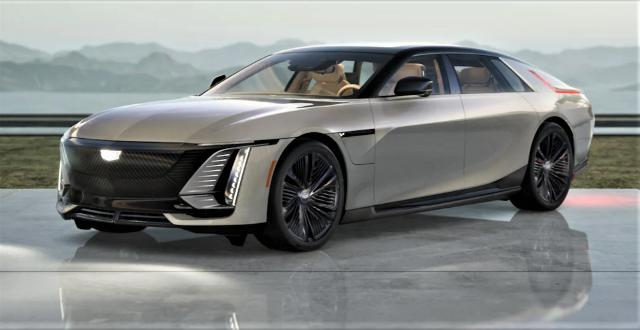cadillac: (55, 42, 595, 254)
